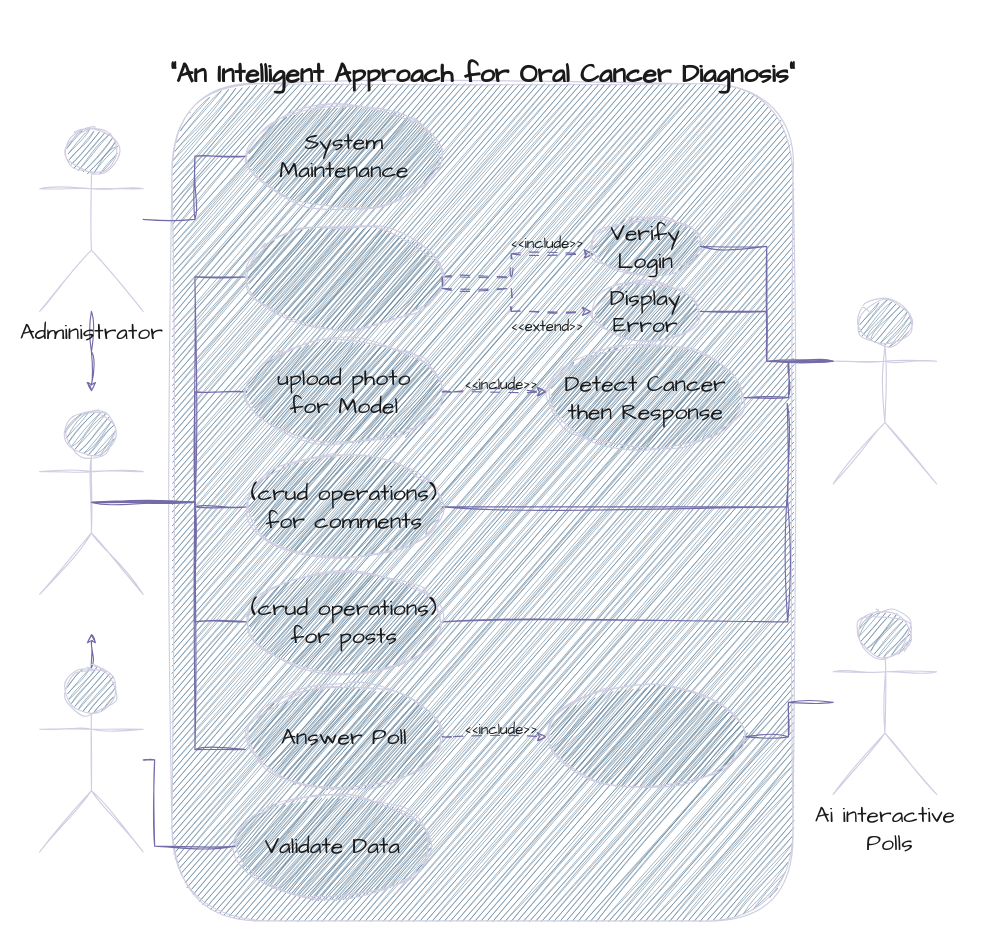
Some shapes in this 998 by 941 pixel diagram are drawn without their labels. Each missing label, with the box of its shape:
Backend Server with ML Model: (832, 299, 937, 484)
Generate insights: (547, 684, 744, 789)
HealthCare Provider: (39, 667, 143, 852)
Login: (246, 224, 442, 329)
User: (39, 409, 143, 594)
